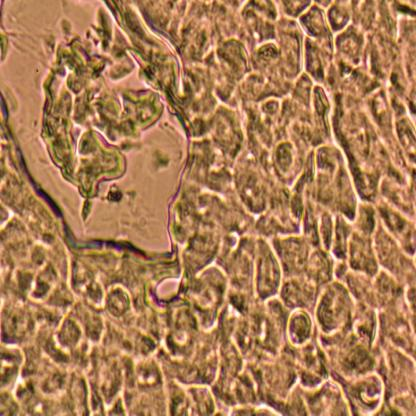Stage I: (175, 0, 416, 416), (0, 237, 416, 416)
